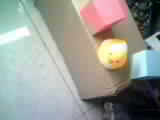duck: (87, 28, 141, 69)
